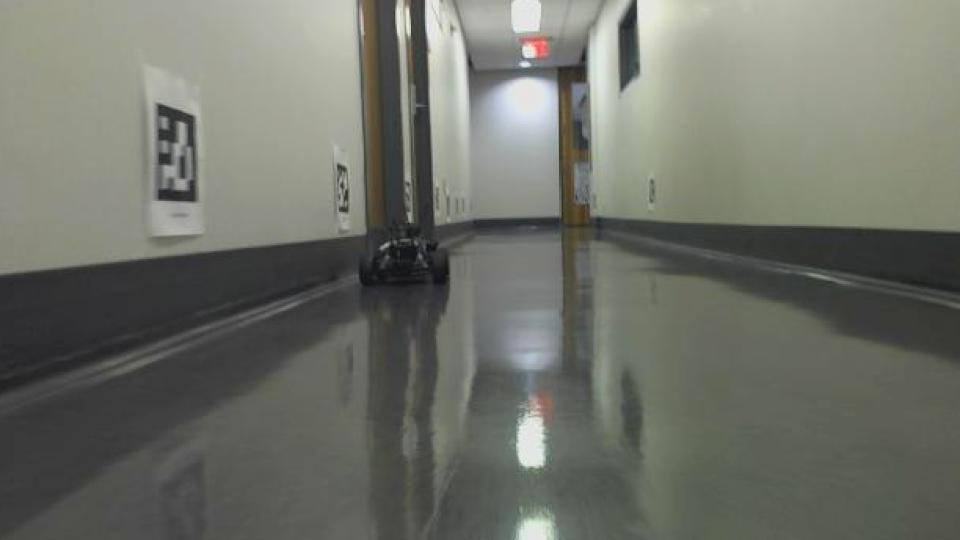car: (356, 218, 453, 290)
